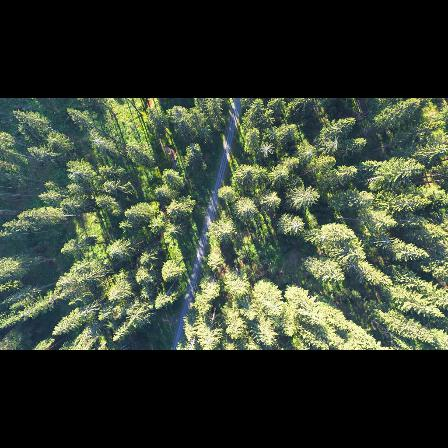Sick: (257, 140, 278, 158), (288, 218, 306, 235), (314, 230, 332, 244)
